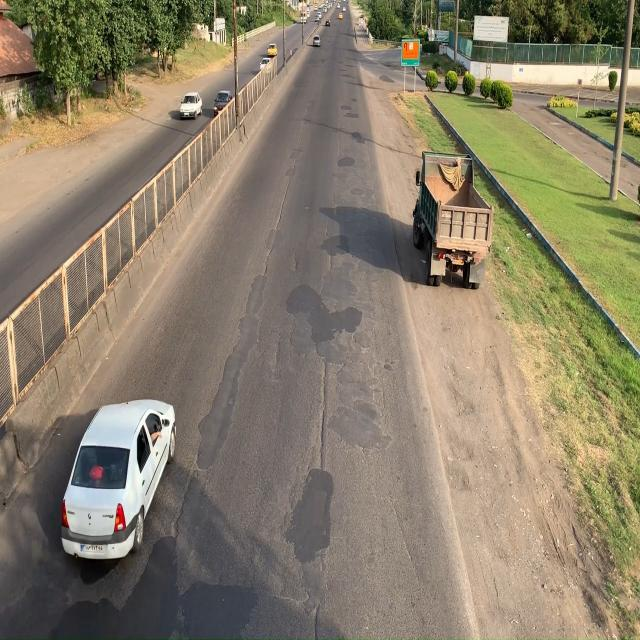Truck: (411, 148, 494, 288)
cars: (62, 399, 176, 558)
